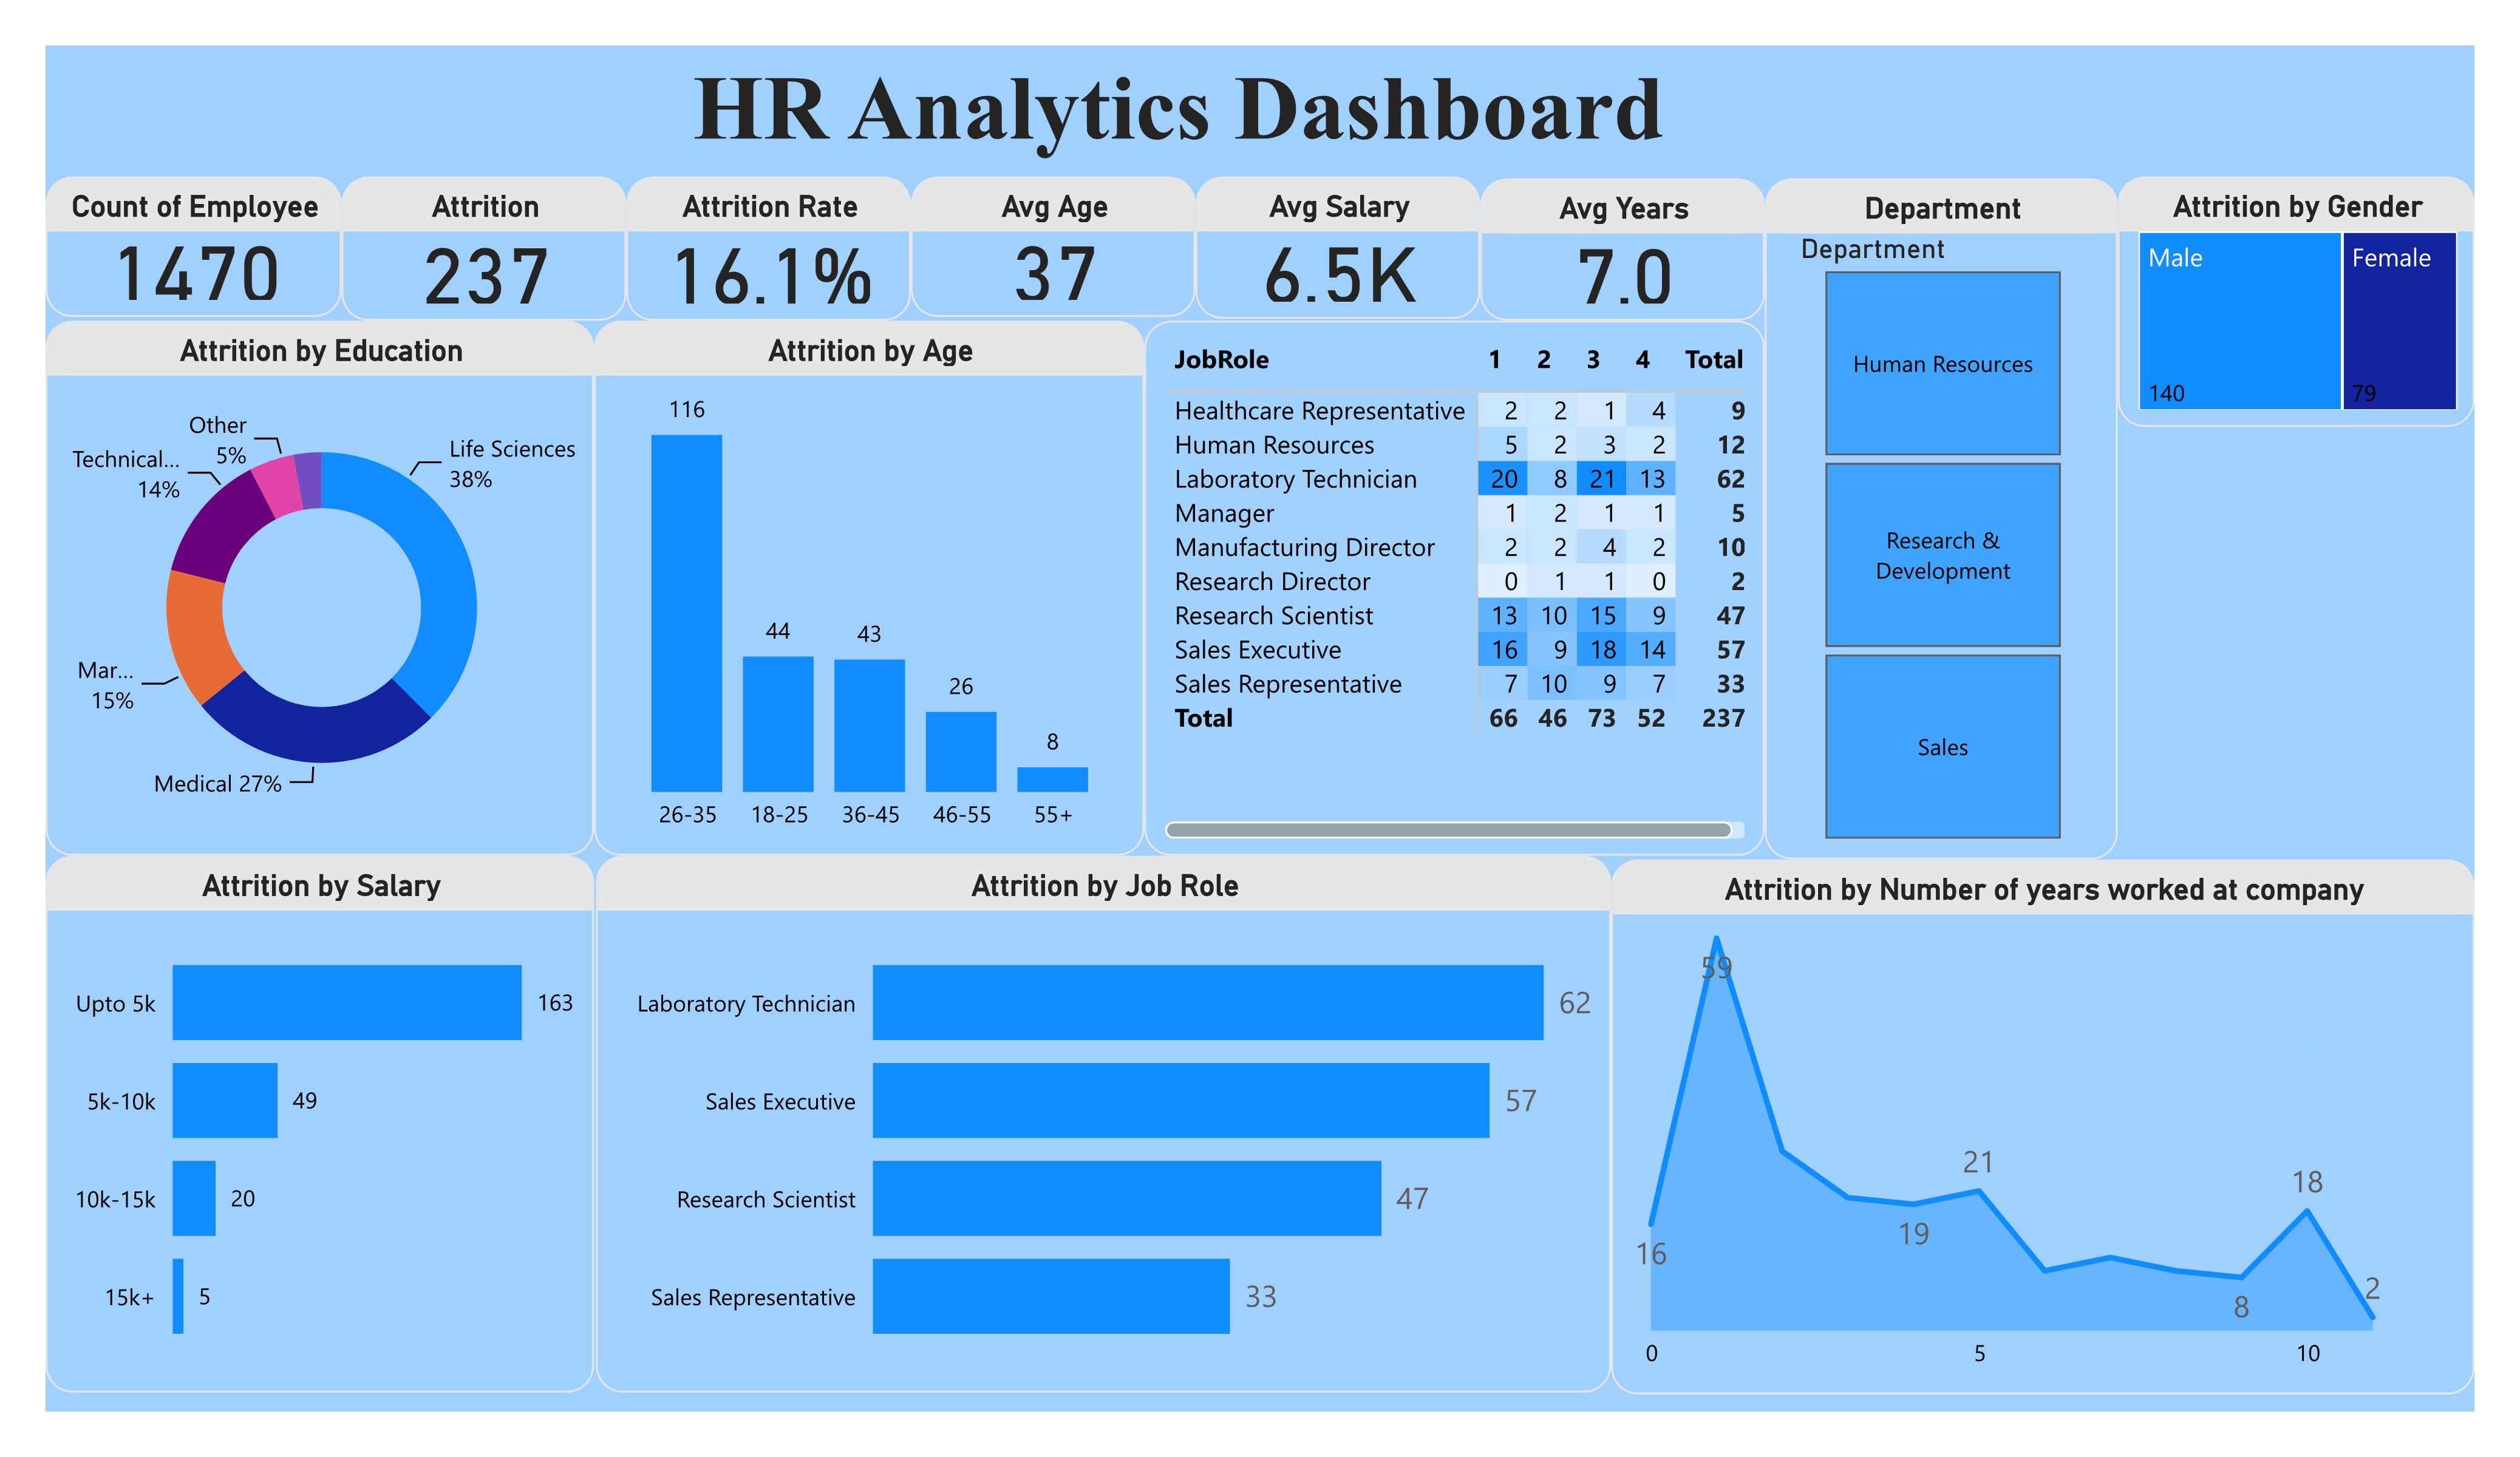

This screenshot's page, from the dashboard's own definition file:
{"tool":"powerbi","page":{"name":"Page 1","canvas":[1280,720],"ordinal":0},"visuals":[{"type":"card","title":"Count of Employee","fields":{"Values":["CountNonNull(HR_Analytics.EmpID)"]},"box":[0,69,156,73.8],"z":0},{"type":"card","title":"Attrition","fields":{"Values":["Sum(HR_Analytics.AttritionCount)"]},"box":[156,69,150,76.2],"z":1000},{"type":"card","title":"Attrition Rate","fields":{"Values":["HR_Analytics.AttritionRate"]},"box":[306,69,150,76.2],"z":2000},{"type":"card","title":"Avg Age","fields":{"Values":["Avg(HR_Analytics.Age)"]},"box":[456,69,150,73.8],"z":3000},{"type":"card","title":"Avg Salary","fields":{"Values":["Avg(HR_Analytics.MonthlyIncome)"]},"box":[606,69,150,75],"z":4000},{"type":"card","title":"Avg Years","fields":{"Values":["Avg(HR_Analytics.YearsAtCompany)"]},"box":[756,70.2,150,75],"z":5000},{"type":"donutChart","title":"Attrition by Education","fields":{"Category":["HR_Analytics.EducationField"],"Y":["Sum(HR_Analytics.AttritionCount)"]},"box":[0,145.2,289.3,282.1],"z":6000},{"type":"columnChart","title":"Attrition by Age","fields":{"Category":["HR_Analytics.AgeGroup"],"Y":["Sum(HR_Analytics.AttritionCount)"]},"box":[289.3,145.2,289.3,282.1],"z":7000},{"type":"pivotTable","fields":{"Rows":["HR_Analytics.JobRole"],"Columns":["HR_Analytics.JobSatisfaction"],"Values":["Sum(HR_Analytics.AttritionCount)"]},"box":[578.6,145.2,327.4,282.1],"z":7001},{"type":"barChart","title":"Attrition by Salary","fields":{"Category":["HR_Analytics.SalarySlab"],"Y":["Sum(HR_Analytics.AttritionCount)"]},"box":[0,427.4,289.3,282.1],"z":7002},{"type":"barChart","title":"Attrition by Job Role","fields":{"Category":["HR_Analytics.JobRole"],"Y":["Sum(HR_Analytics.AttritionCount)"]},"box":[289.5,426.8,535.2,283],"z":7003},{"type":"areaChart","title":"Attrition by Number of years worked at company","fields":{"Category":["HR_Analytics.YearsAtCompany"],"Y":["Sum(HR_Analytics.AttritionCount)"]},"box":[825,427,455,282],"z":7004},{"type":"treemap","title":"Attrition by Gender","fields":{"Group":["HR_Analytics.Gender"],"Values":["Sum(HR_Analytics.AttritionCount)"]},"box":[1091.7,69,188.1,132.1],"z":7005},{"type":"slicer","title":"Department","fields":{"Values":["HR_Analytics.Department"]},"box":[906,70,186,357],"z":7006},{"type":"textbox","box":[279.8,0,634.5,70.2],"z":7007}]}

Visuals, with their boxes on the page's 1280x720 design canvas (x1, y1, x2, y2). These are canvas units, not pixel positions in the 2520x1457 screenshot, which may show the page scaled, cropped or inside an application window:
"Count of Employee" card: (0, 69, 156, 143)
"Attrition" card: (156, 69, 306, 145)
"Attrition Rate" card: (306, 69, 456, 145)
"Avg Age" card: (456, 69, 606, 143)
"Avg Salary" card: (606, 69, 756, 144)
"Avg Years" card: (756, 70, 906, 145)
"Attrition by Education" donutChart: (0, 145, 289, 427)
"Attrition by Age" columnChart: (289, 145, 579, 427)
pivotTable - HR_Analytics.JobRole x HR_Analytics.JobSatisfaction: (579, 145, 906, 427)
"Attrition by Salary" barChart: (0, 427, 289, 710)
"Attrition by Job Role" barChart: (290, 427, 825, 710)
"Attrition by Number of years worked at company" areaChart: (825, 427, 1280, 709)
"Attrition by Gender" treemap: (1092, 69, 1280, 201)
"Department" slicer: (906, 70, 1092, 427)
textbox: (280, 0, 914, 70)
